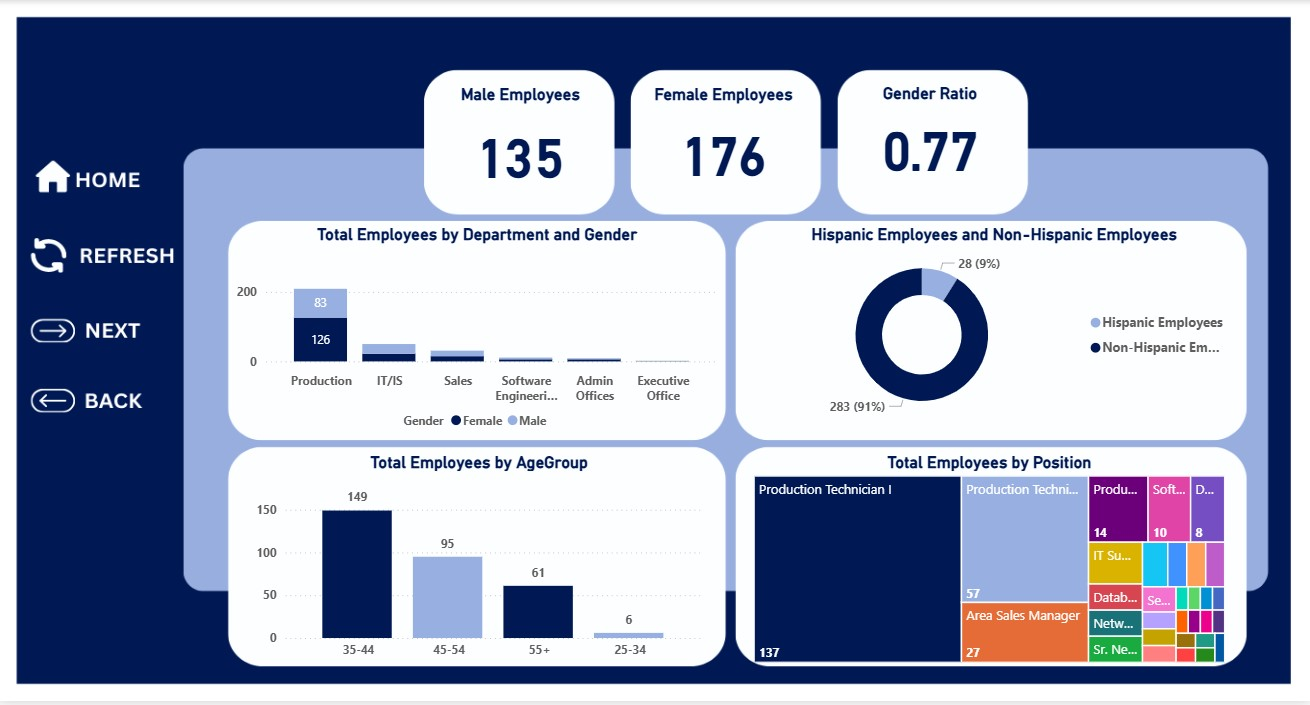

Layout of this report page (visuals, bound fields, positions):
{"tool":"powerbi","page":{"name":"Page 2","canvas":[1350,720],"ordinal":1},"visuals":[{"type":"card","title":"Gender Ratio","fields":{"Values":["measures (2).Gender Ratio"]},"box":[863.3,86,190.7,106.1],"z":0},{"type":"card","title":"Female Employees","fields":{"Values":["measures (2).Female Employees"]},"box":[664,87.5,164.9,113.3],"z":1000},{"type":"card","title":"Male Employees","fields":{"Values":["measures (2).Male Employees"]},"box":[441.7,87.5,192.2,117.6],"z":2000},{"type":"columnChart","title":"Total Employees by Department and Gender","fields":{"Category":["HRDataset_v14.Department"],"Y":["measures (2).Total Employees"],"Series":["HRDataset_v14.Sex"]},"box":[240.9,230.9,504.8,219.4],"z":3000},{"type":"treemap","fields":{"Group":["HRDataset_v14.Position"],"Values":["measures (2).Total Employees"]},"box":[773,464.6,493.3,220.8],"z":4000},{"type":"columnChart","fields":{"Y":["measures (2).Total Employees"],"Category":["HRDataset_v14.AgeGroup"]},"box":[261,464.6,468.9,220.8],"z":5000},{"type":"donutChart","fields":{"Y":["measures (2).Hispanic Employees","measures (2).Non-Hispanic Employees"]},"box":[773,230.9,503.4,206.5],"z":6000},{"type":"actionButton","box":[24.4,162.1,156.3,51.6],"z":7000},{"type":"actionButton","box":[21,243.4,172.1,50.4],"z":7001},{"type":"actionButton","box":[21,314.8,159.5,50.4],"z":7002},{"type":"actionButton","box":[23.8,387.6,159.5,50.4],"z":7003}]}

Visuals, with their boxes on the page's 1350x720 design canvas (x1, y1, x2, y2). These are canvas units, not pixel positions in the 1310x705 screenshot, which may show the page scaled, cropped or inside an application window:
"Gender Ratio" card: detection(863, 86, 1054, 192)
"Female Employees" card: detection(664, 88, 829, 201)
"Male Employees" card: detection(442, 88, 634, 205)
"Total Employees by Department and Gender" columnChart: detection(241, 231, 746, 450)
treemap - HRDataset_v14.Position x measures (2).Total Employees: detection(773, 465, 1266, 685)
columnChart - measures (2).Total Employees x HRDataset_v14.AgeGroup: detection(261, 465, 730, 685)
donutChart - measures (2).Hispanic Employees x measures (2).Non-Hispanic Employees: detection(773, 231, 1276, 437)
actionButton: detection(24, 162, 181, 214)
actionButton: detection(21, 243, 193, 294)
actionButton: detection(21, 315, 180, 365)
actionButton: detection(24, 388, 183, 438)
